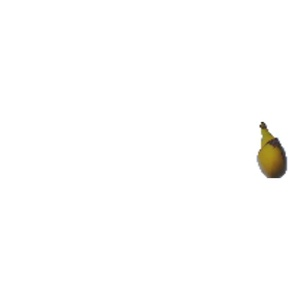banana: (247, 119, 292, 182)
